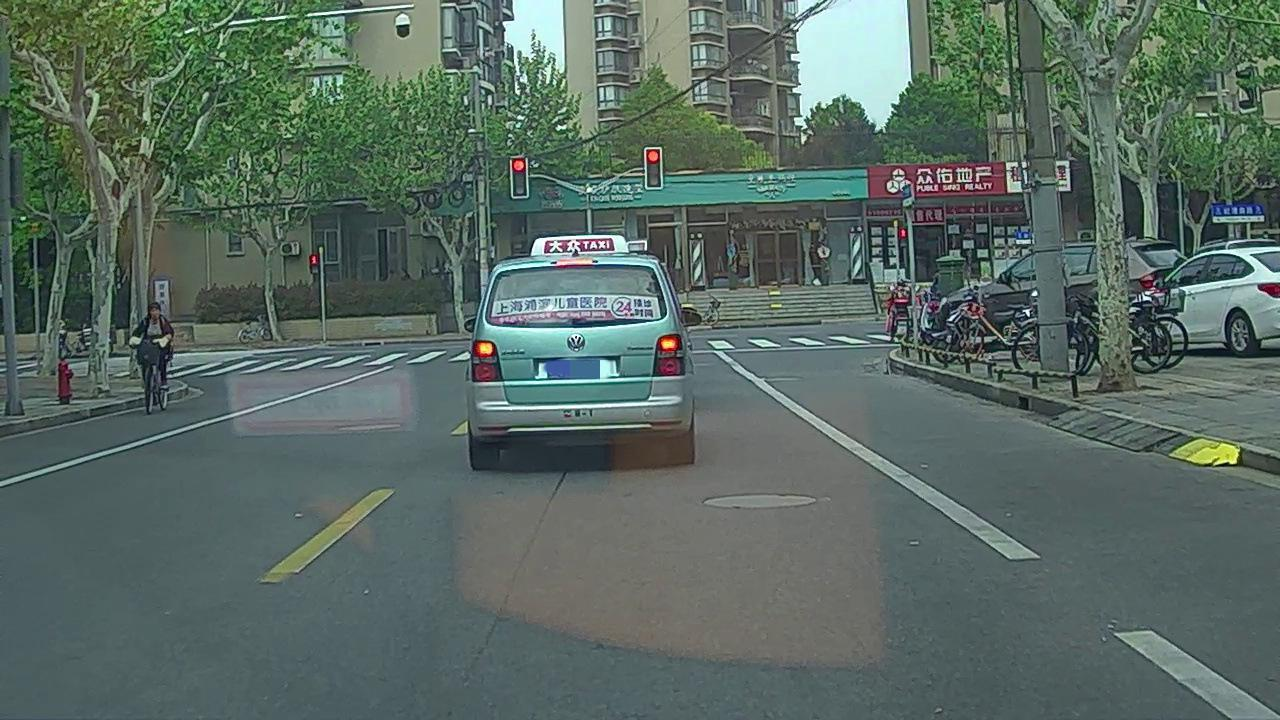traffic_light: (511, 157, 527, 195), (646, 150, 661, 189)
